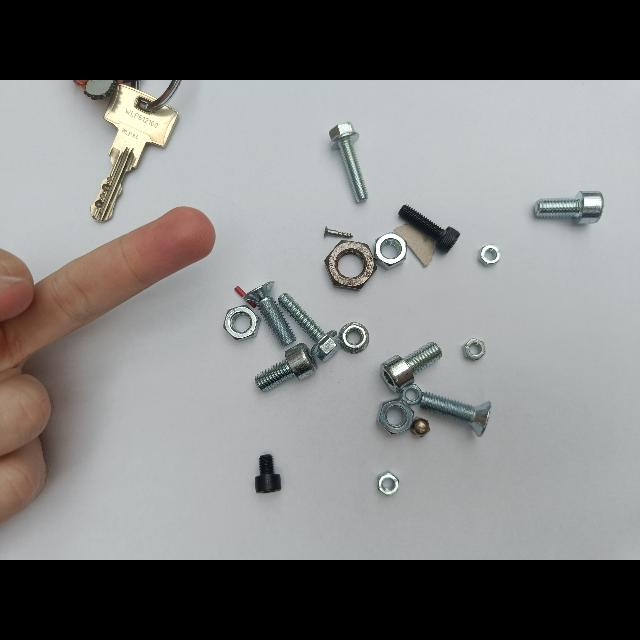bolt: (278, 293, 342, 361), (243, 281, 296, 347), (418, 392, 491, 437), (329, 122, 368, 203), (381, 342, 441, 392), (255, 343, 317, 391), (399, 205, 460, 253), (534, 191, 604, 224), (255, 454, 281, 493), (324, 226, 353, 239)
nuts: (325, 241, 377, 290), (371, 231, 407, 270), (377, 398, 414, 434), (224, 305, 261, 341), (338, 322, 369, 353), (461, 338, 486, 361), (376, 471, 399, 496), (400, 380, 423, 405), (477, 245, 500, 267), (409, 416, 430, 437)
